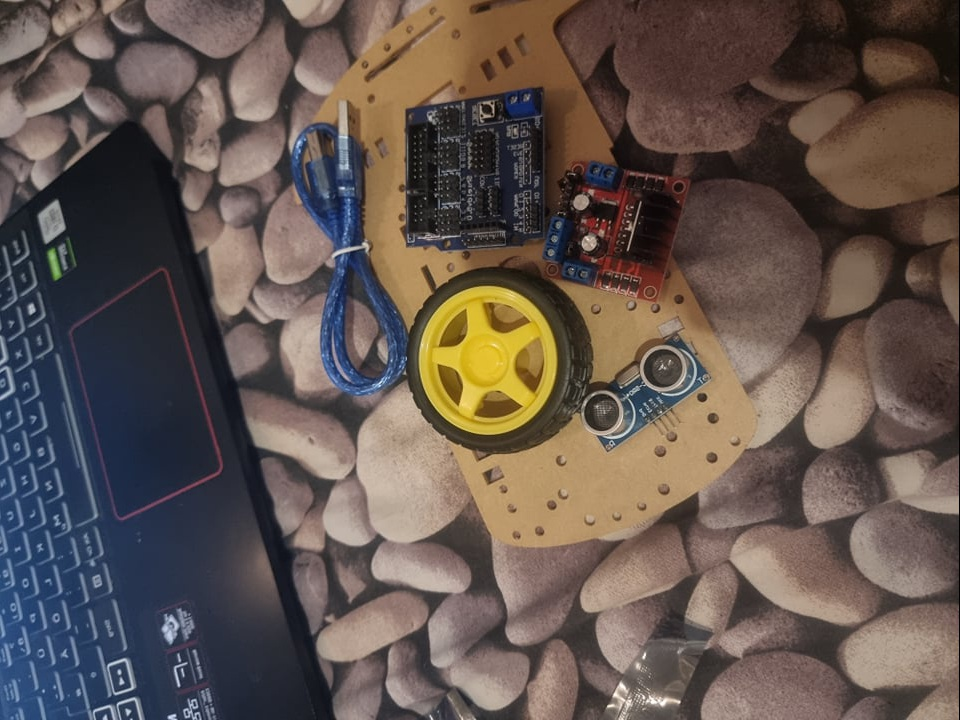5V EXPANSION: (405, 87, 549, 250)
MOTOR: (546, 163, 693, 302)
SENSOR: (583, 335, 701, 446)
